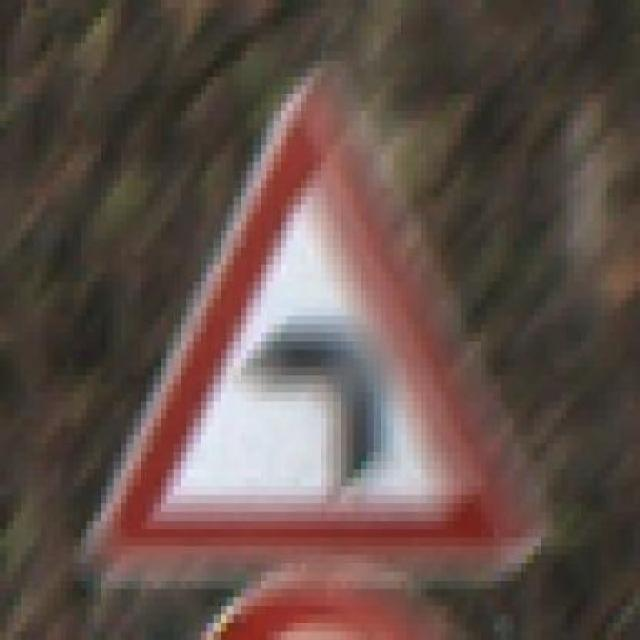Dangerous Left Curve Ahead: (73, 51, 547, 580)
